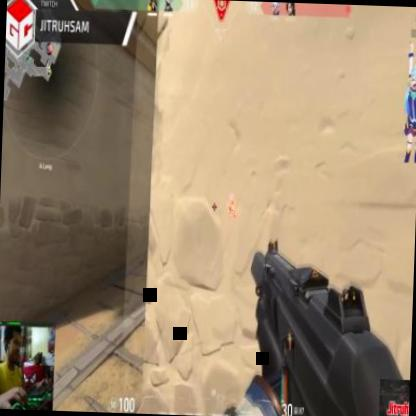enemy: (227, 194, 235, 221)
enemy_head: (230, 194, 234, 201)
